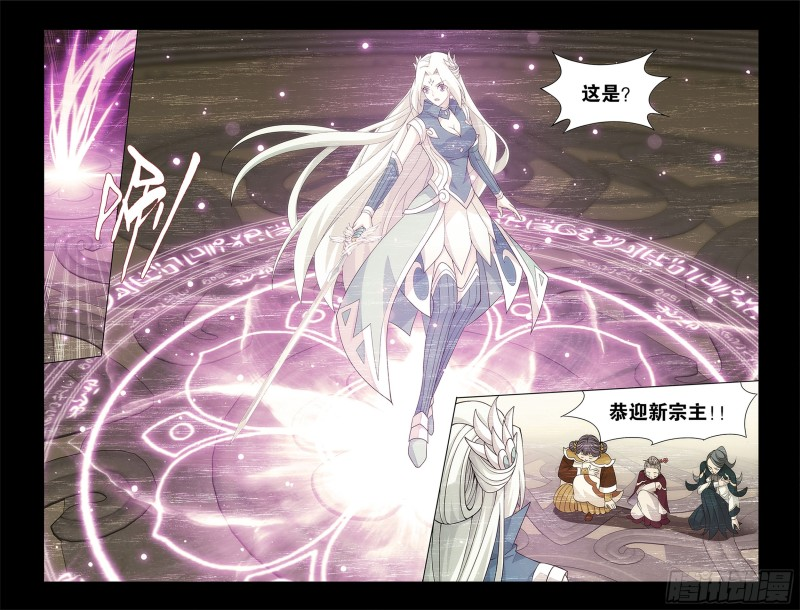boxBomb: (562, 383, 756, 445), (538, 51, 664, 135)
minBox: (40, 25, 760, 583), (424, 383, 760, 581), (42, 27, 140, 367)
